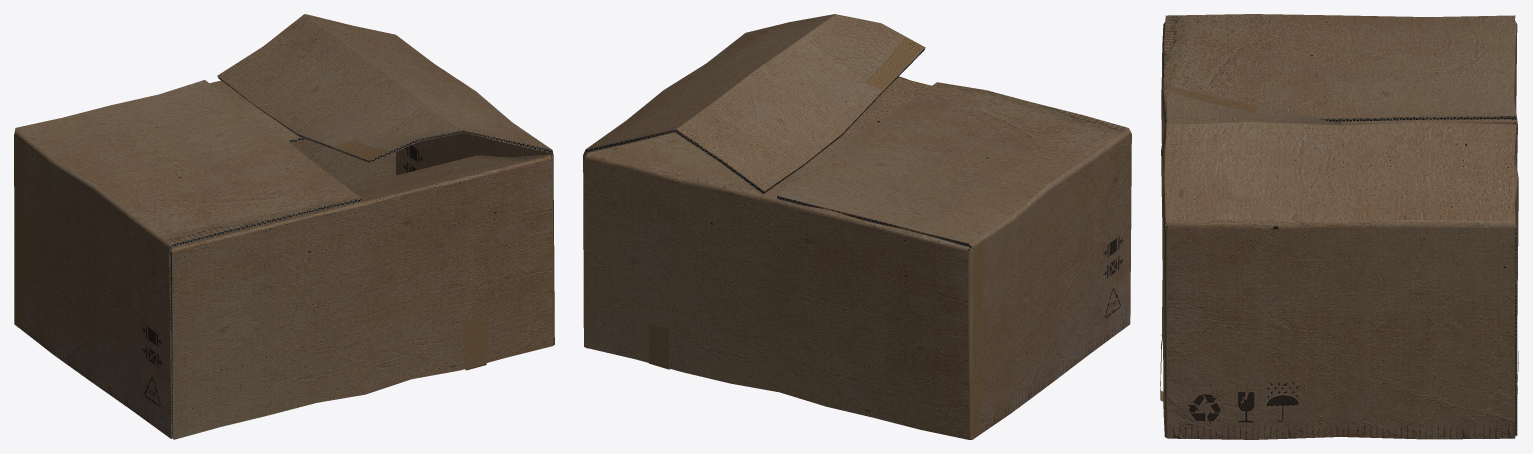
Rendered from SM_CardboardD.FBX.
3 views of the same model, side by side, from view 1: azimuth 30°, elevation 25°; view 2: azimuth 150°, elevation 25°; view 3: azimuth 270°, elevation 25° (orthographic). The views are drawn at different scales.
Parts seen in each view (by area): view 1: SM_CardboardD_LOD0; view 2: SM_CardboardD_LOD0; view 3: SM_CardboardD_LOD0.
Boxes of the visible parts, x1,y1,x2,y2 form: SM_CardboardD_LOD0: (14, 14, 554, 439); SM_CardboardD_LOD0: (583, 14, 1131, 439); SM_CardboardD_LOD0: (1160, 14, 1518, 439).
Size of what is drawn, in the model's own units: 46.49 by 27.99 by 33.58.
